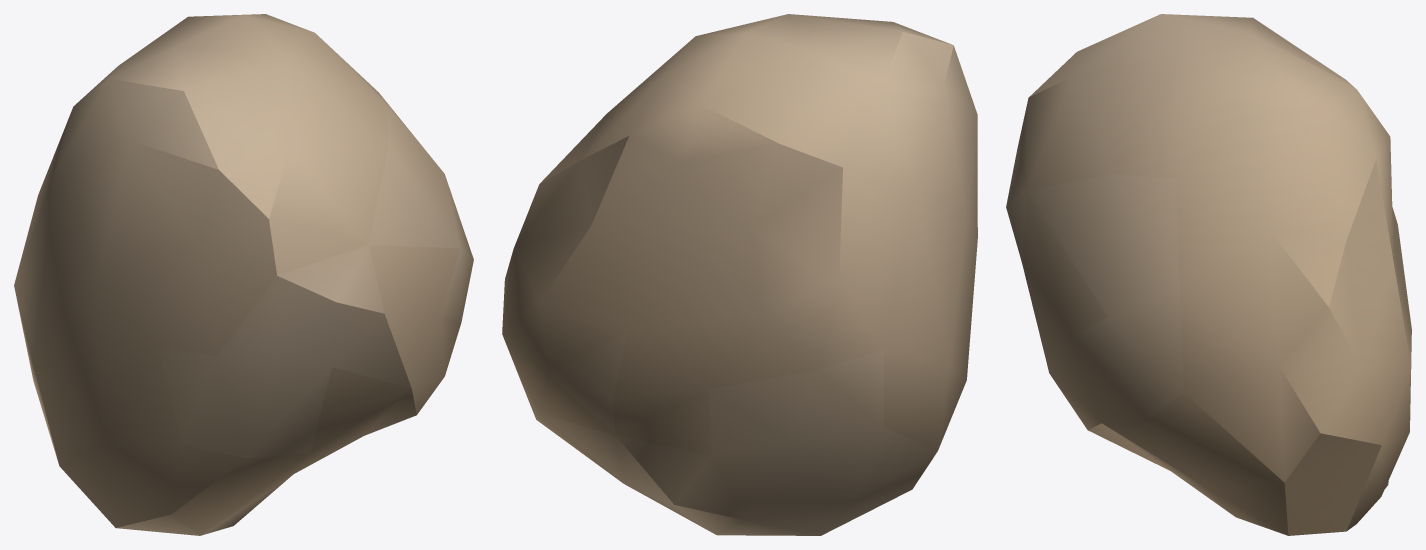
File: Rock_3_I_Color7.fbx
The picture shows the model from 3 angles, left to right: view 1: azimuth 30°, elevation 25°; view 2: azimuth 150°, elevation 25°; view 3: azimuth 270°, elevation 25°; orthographic projection. The views are drawn at different scales.
Visible parts, largest first — view 1: Rock_3_I_Color7; view 2: Rock_3_I_Color7; view 3: Rock_3_I_Color7.
Part boxes in pixels (left/top/right/bottom): Rock_3_I_Color7: left=14, top=14, right=473, bottom=535; Rock_3_I_Color7: left=502, top=14, right=977, bottom=535; Rock_3_I_Color7: left=1006, top=14, right=1411, bottom=535.
Bounding box in the file's own units: 1.92 × 2.11 × 1.64.
